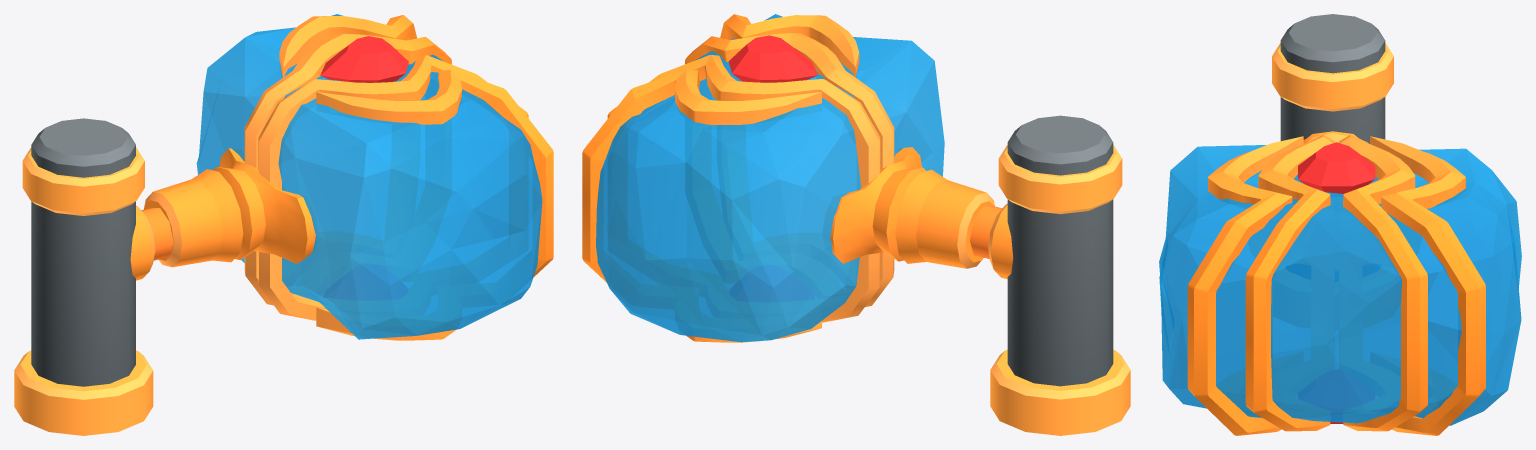
The model's file is obstacle_2_001.glb.
3 renders of one model, left to right at view 1: azimuth 30°, elevation 25°; view 2: azimuth 150°, elevation 25°; view 3: azimuth 270°, elevation 25°, orthographic.
Visible parts, largest first — view 1: obstacle_2_001; view 2: obstacle_2_001; view 3: obstacle_2_001.
Boxes of the visible parts, x1,y1,x2,y2 form: obstacle_2_001: (14, 14, 553, 435); obstacle_2_001: (582, 14, 1130, 435); obstacle_2_001: (1159, 14, 1521, 435).
Size of the model in its own units: 2.83 by 1.68 by 1.92.
Materials: 3 (3 with a texture image).
